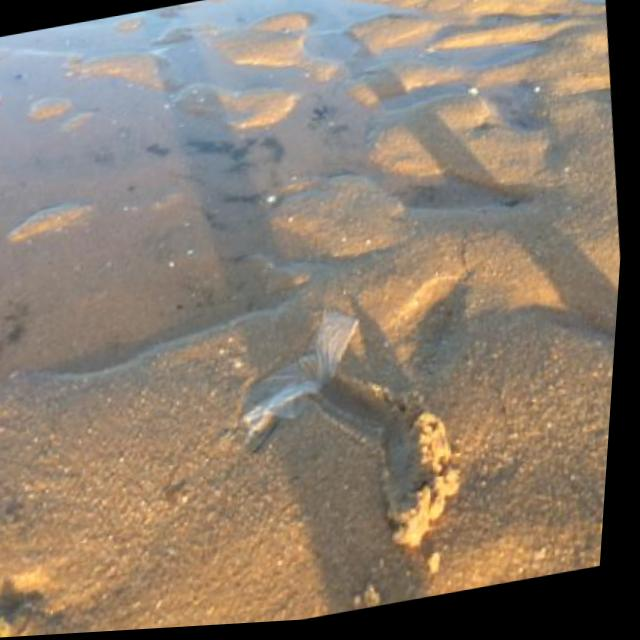plastic: (230, 305, 370, 431)
